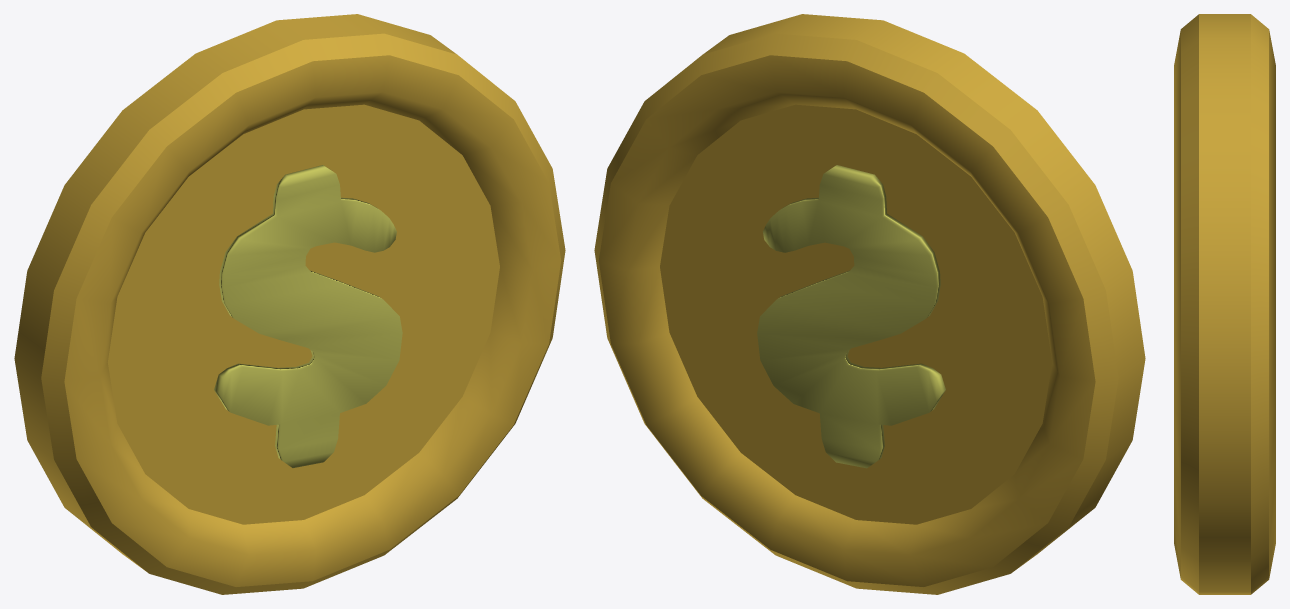
Rendered from Money.fbx.
3 renders of one model, left to right at view 1: azimuth 30°, elevation 25°; view 2: azimuth 150°, elevation 25°; view 3: azimuth 270°, elevation 25°, orthographic. The views are drawn at different scales.
Visible parts, largest first — view 1: Money_msh; view 2: Money_msh; view 3: Money_msh.
Boxes of the visible parts, x1=… form: Money_msh: x1=14, y1=14, x2=565, y2=594; Money_msh: x1=594, y1=14, x2=1145, y2=594; Money_msh: x1=1174, y1=14, x2=1275, y2=594.
Size of the model in its own units: 4.34 by 4.34 by 0.7534.
